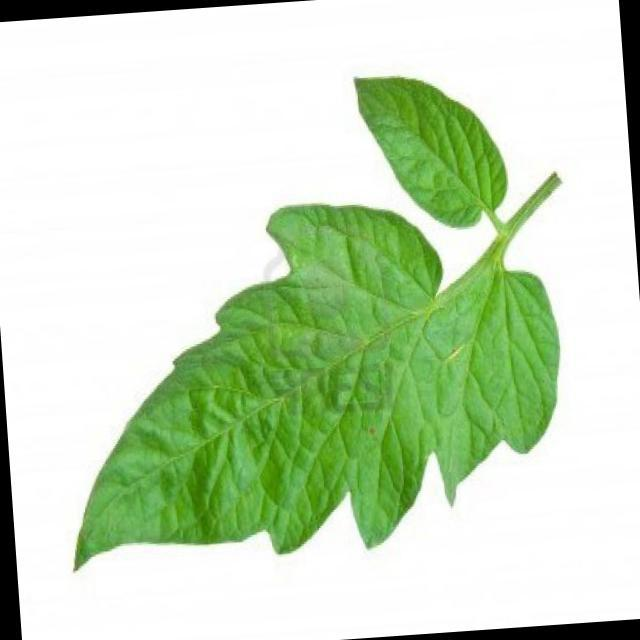Healthy Leaf: (49, 185, 576, 584), (330, 42, 512, 235)
